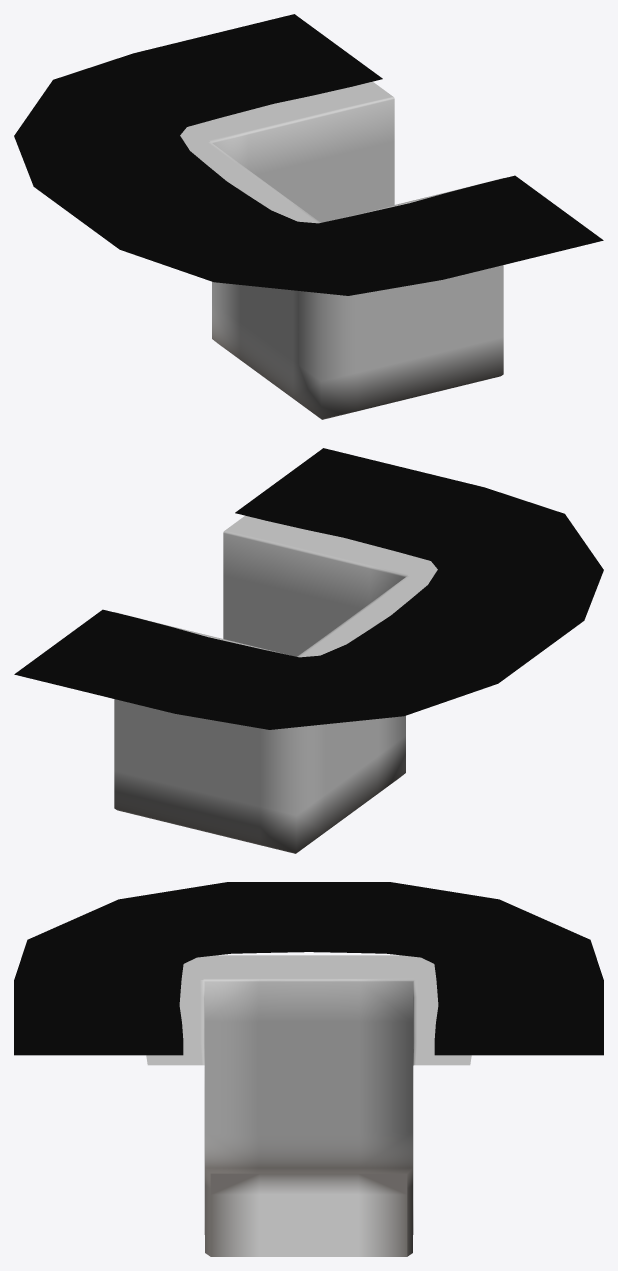
File: blockC.fbx
3 renders of one model, top to bottom at view 1: azimuth 30°, elevation 25°; view 2: azimuth 150°, elevation 25°; view 3: azimuth 270°, elevation 25°, orthographic. The views are drawn at different scales.
Parts seen in each view (by area): view 1: polySurface14, polySurface7; view 2: polySurface14, polySurface7; view 3: polySurface14, polySurface7, floorA.
Boxes of the visible parts, x1=… form: polySurface14: x1=14, y1=14, x2=603, y2=295; polySurface7: x1=180, y1=81, x2=503, y2=419; polySurface14: x1=14, y1=448, x2=603, y2=729; polySurface7: x1=113, y1=515, x2=437, y2=853; polySurface14: x1=14, y1=882, x2=603, y2=1055; polySurface7: x1=146, y1=955, x2=471, y2=1256; floorA: x1=210, y1=1173, x2=407, y2=1256.
Bounding box in the file's own units: 626 × 339 × 900.
